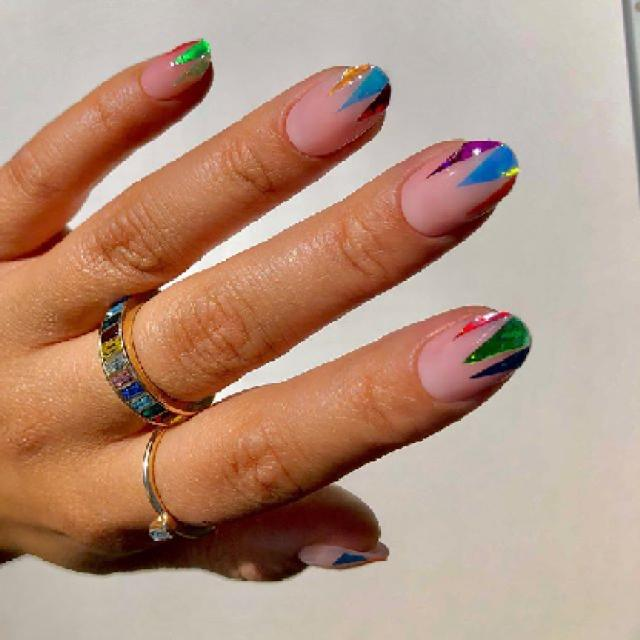Nail: (400, 140, 519, 236), (418, 311, 531, 401), (285, 65, 390, 156), (140, 39, 211, 99), (300, 545, 388, 568)
